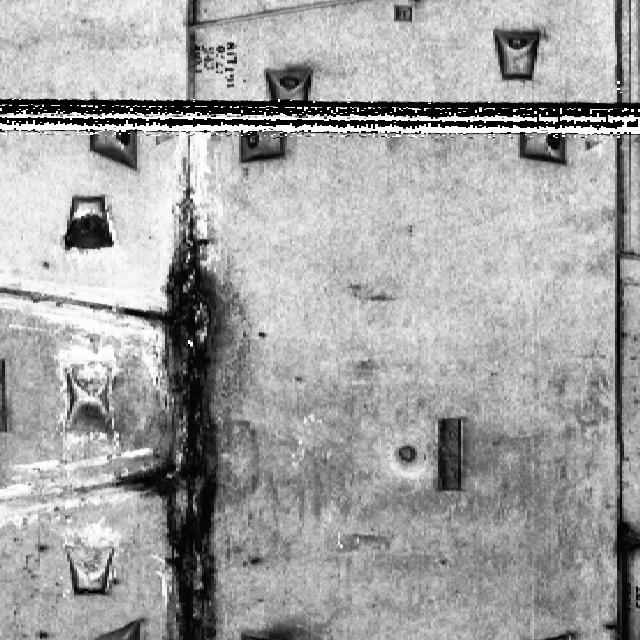leakage: (110, 179, 230, 639)
